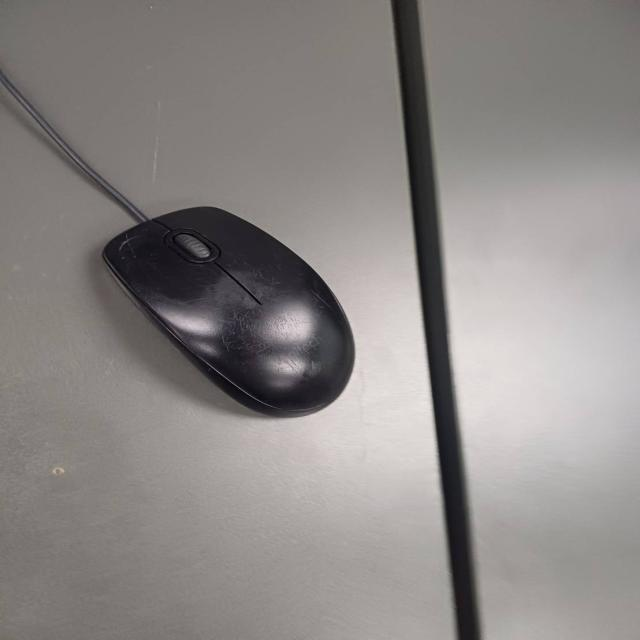mouse: (97, 198, 368, 434)
